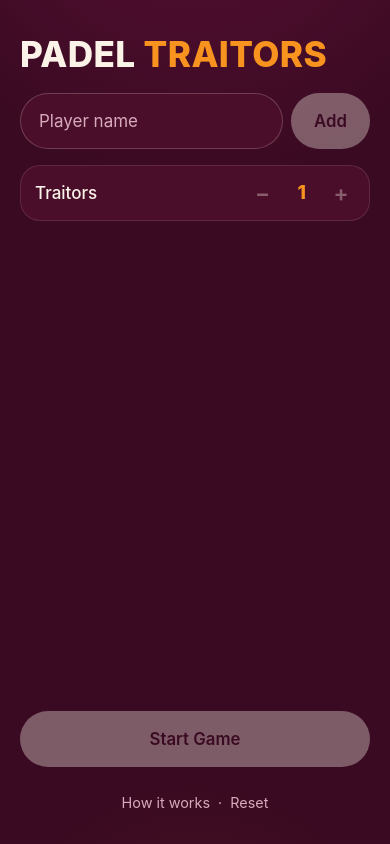
setup › dismisses a sheet by dragging the handle down, but not a short drag
Click the button "How it works": (166, 804) [118,783,214,824]
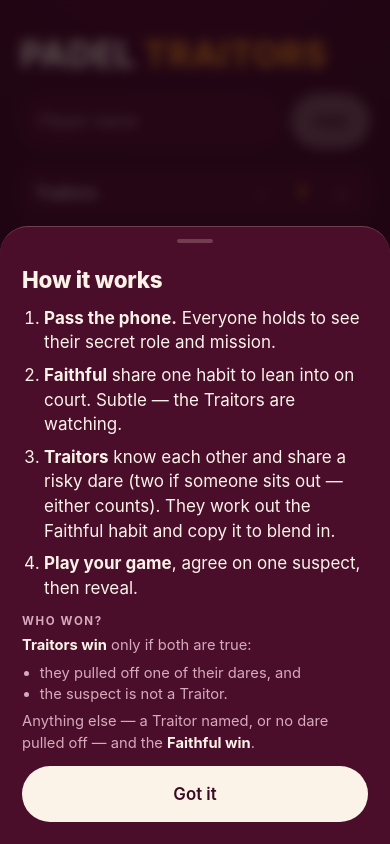
Press the mouse on the element with class "sheet-handle": (195, 241) [177,239,213,243]
Check: the dialog "How it works" is shown
Press the mouse on the element with class "sheet-handle": (195, 241) [177,239,213,243]
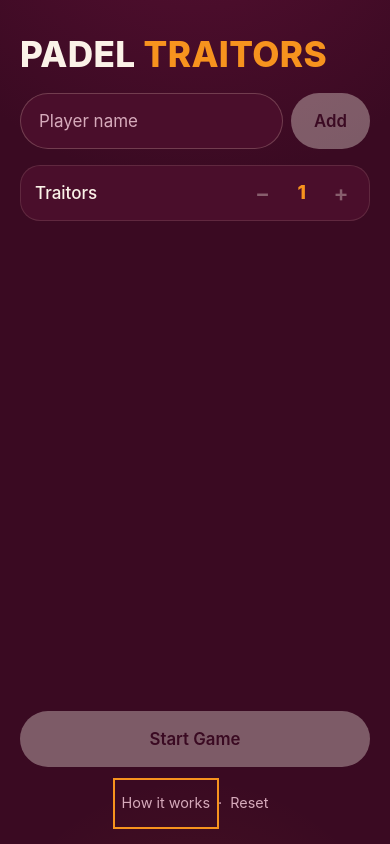
Check: the dialog is gone
